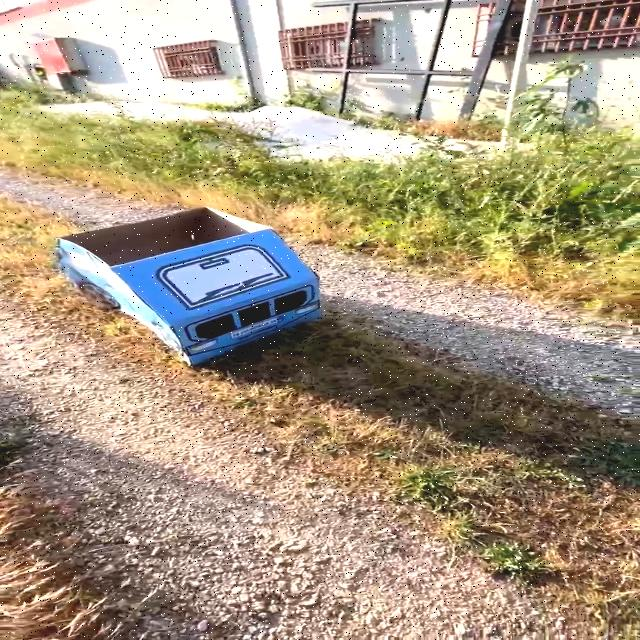blue_car: (1, 184, 373, 394)
